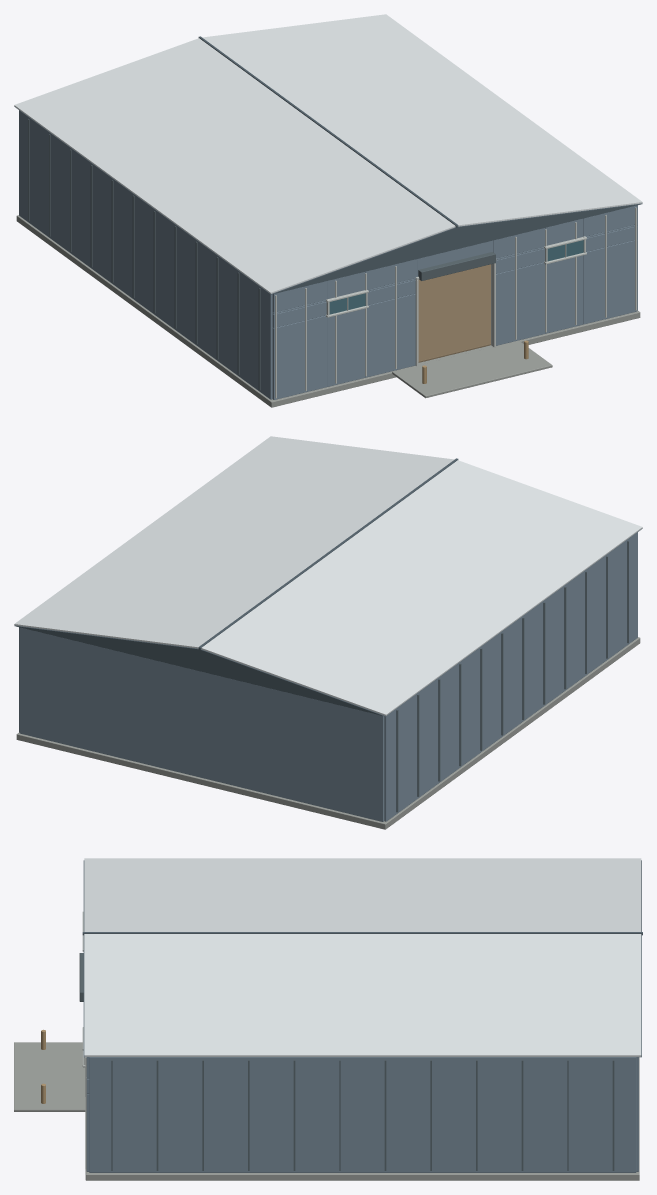
The model's file is freight_warehouse.glb.
The picture shows the model from 3 angles, top to bottom: view 1: azimuth 30°, elevation 25°; view 2: azimuth 150°, elevation 25°; view 3: azimuth 270°, elevation 25°; orthographic projection. The views are drawn at different scales.
Parts seen in each view (by area): view 1: freight_warehouse; view 2: freight_warehouse; view 3: freight_warehouse.
Part boxes in pixels (left/top/right/bottom): freight_warehouse: left=14, top=14, right=642, bottom=407; freight_warehouse: left=14, top=436, right=642, bottom=829; freight_warehouse: left=14, top=858, right=642, bottom=1180.
Bounding box in the file's own units: 20.46 × 7.29 × 27.59.
